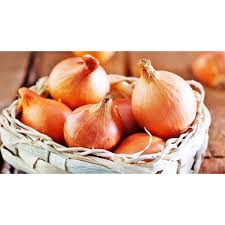Onion: (126, 63, 201, 145)
